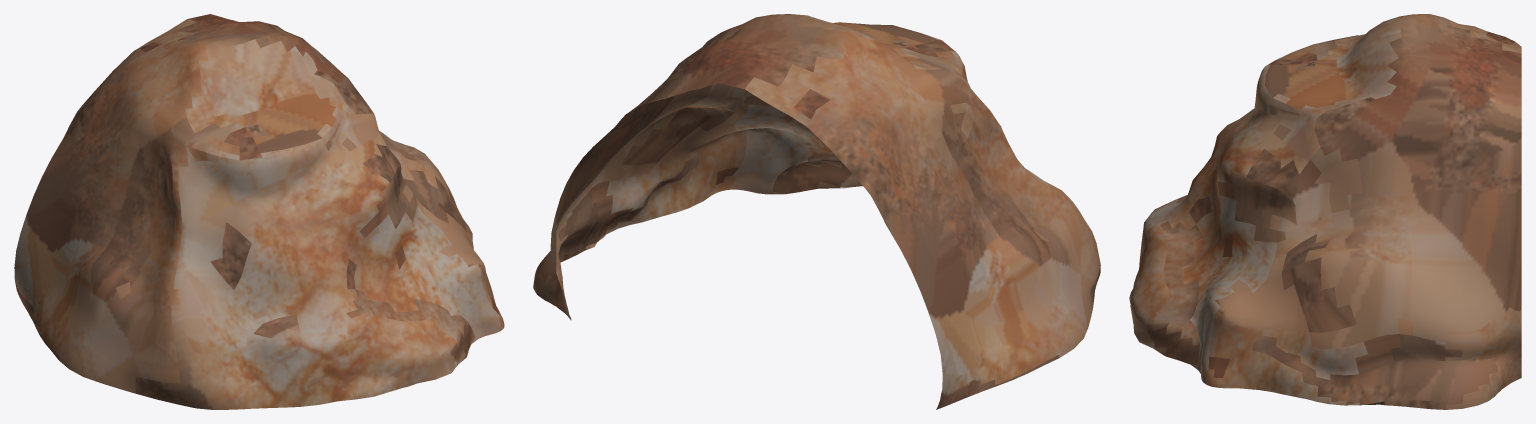
File: rock_small01.fbx
The picture shows the model from 3 angles, left to right: view 1: azimuth 30°, elevation 25°; view 2: azimuth 150°, elevation 25°; view 3: azimuth 270°, elevation 25°; orthographic projection. The views are drawn at different scales.
Visible parts, largest first — view 1: rockSmall; view 2: rockSmall; view 3: rockSmall.
Part boxes in pixels (left/top/right/bottom): rockSmall: left=14, top=14, right=504, bottom=409; rockSmall: left=533, top=14, right=1100, bottom=409; rockSmall: left=1129, top=14, right=1521, bottom=409.
Size of the model in its own units: 1.59 by 0.9476 by 1.25.
